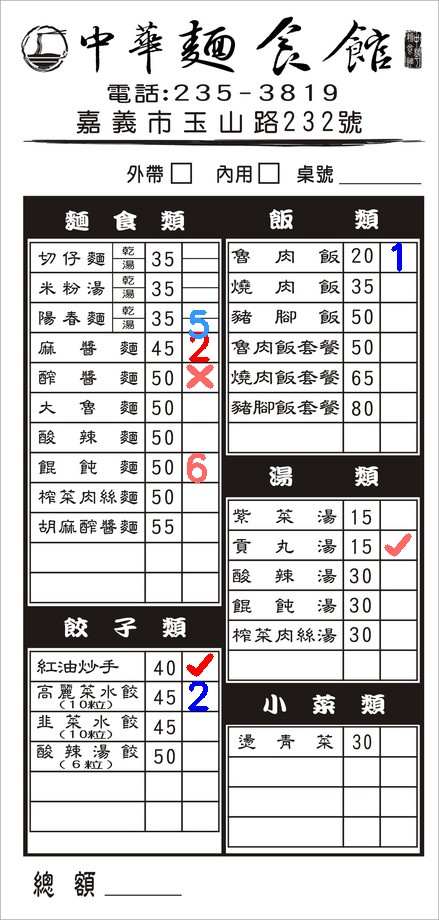marked_number_1: (381, 242, 417, 271)
marked_number_2: (182, 332, 218, 361), (181, 681, 217, 710)
marked_number_5: (183, 317, 217, 330)
marked_number_6: (179, 453, 215, 482)
marked_tick: (182, 651, 218, 680), (380, 531, 416, 560)
marked_x: (182, 362, 218, 391)
